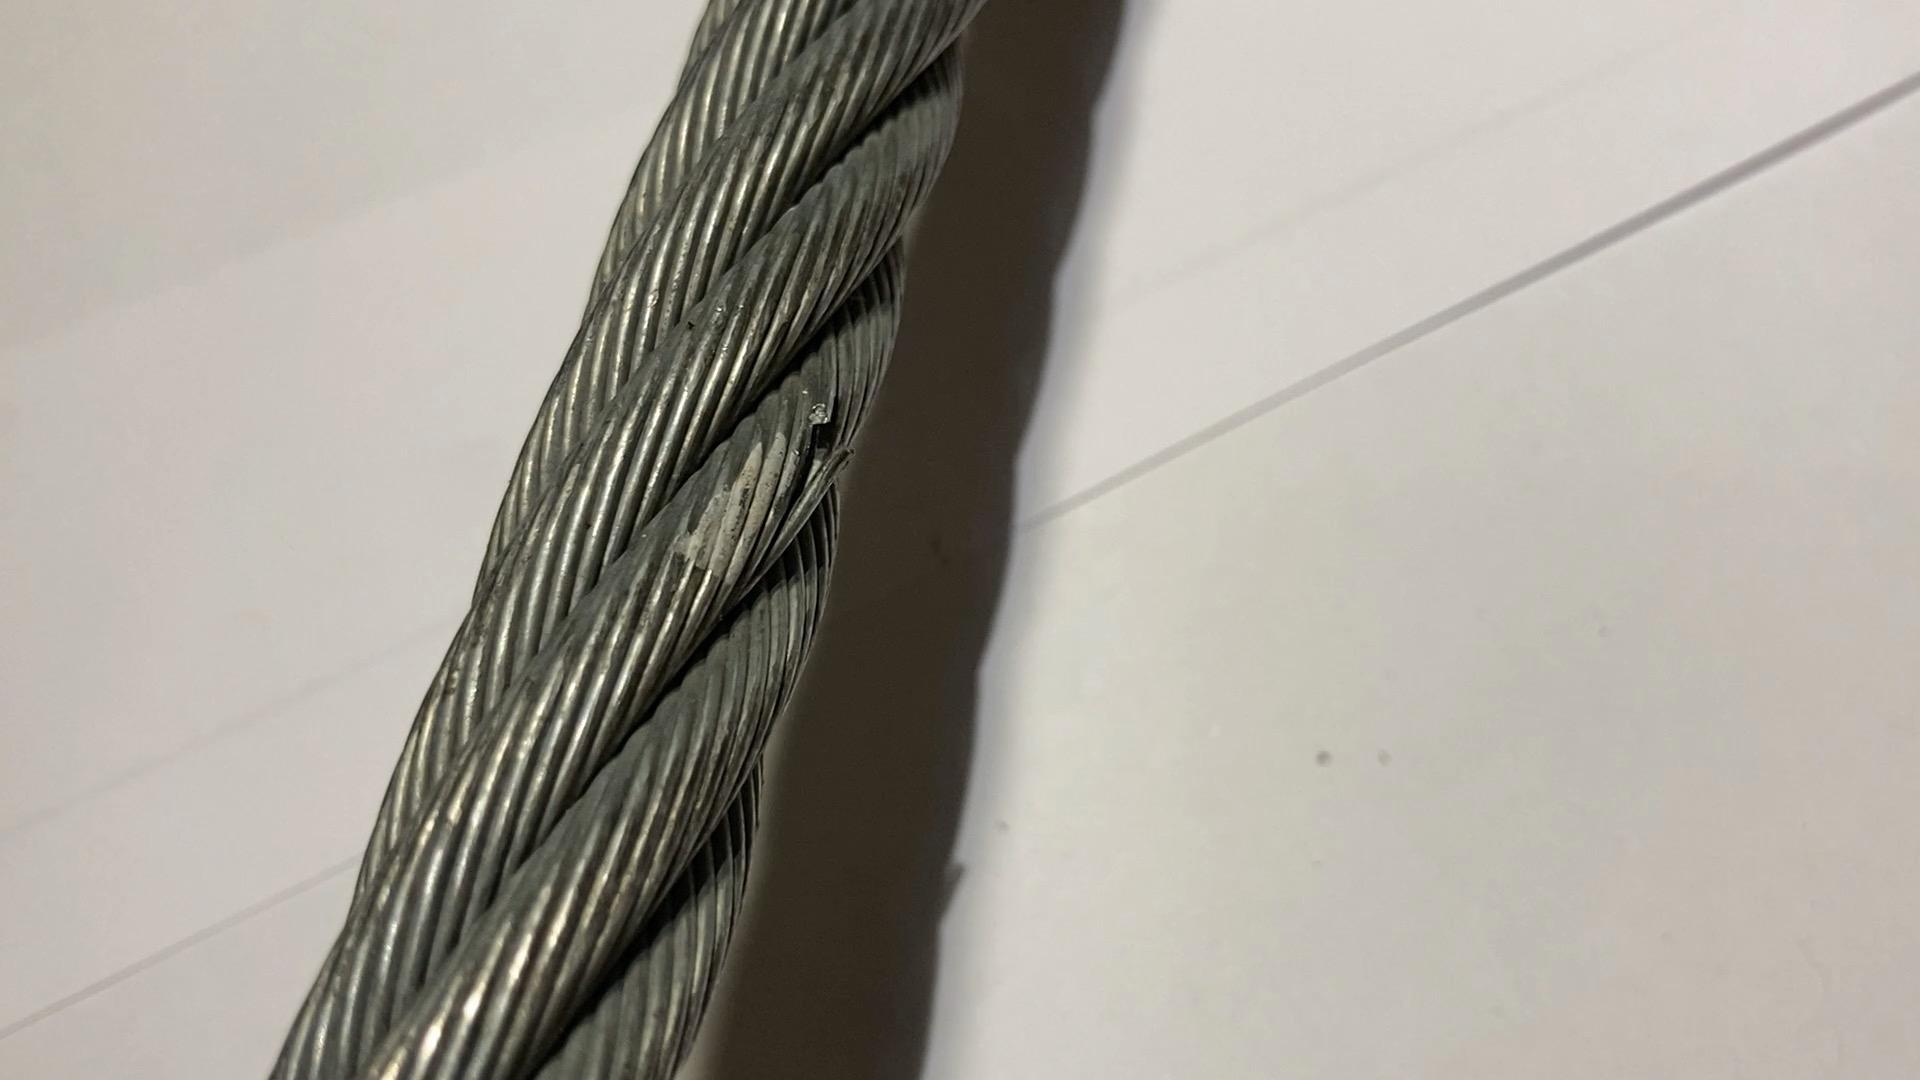break: (790, 386, 861, 497)
